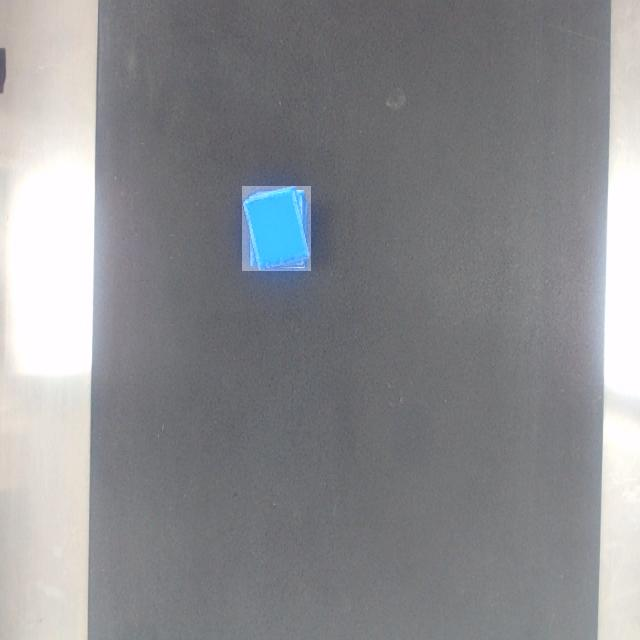Azul: (242, 186, 311, 271)
